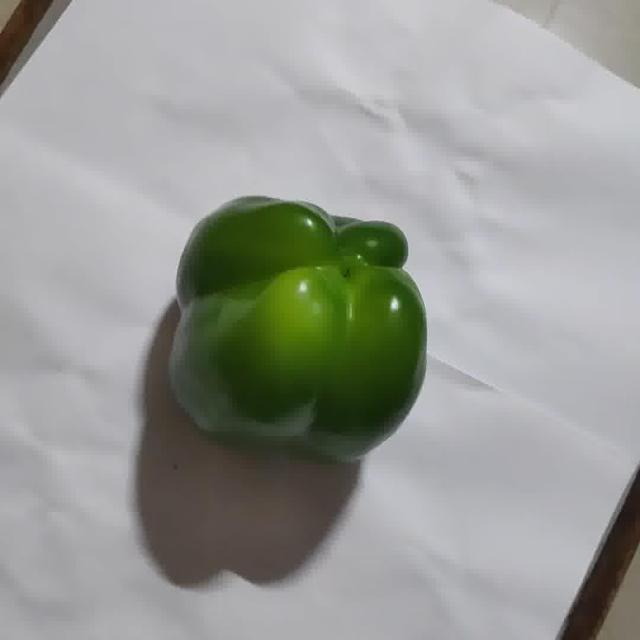Bell Pepper: (170, 197, 427, 461)
